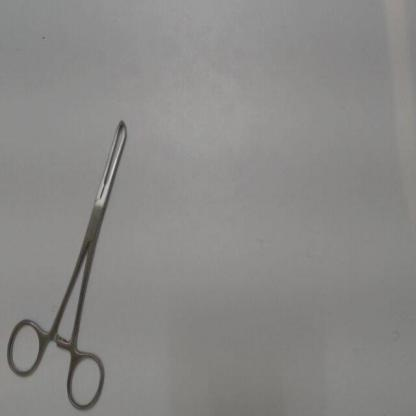Allis Tissue Forceps: (3, 107, 135, 414)
